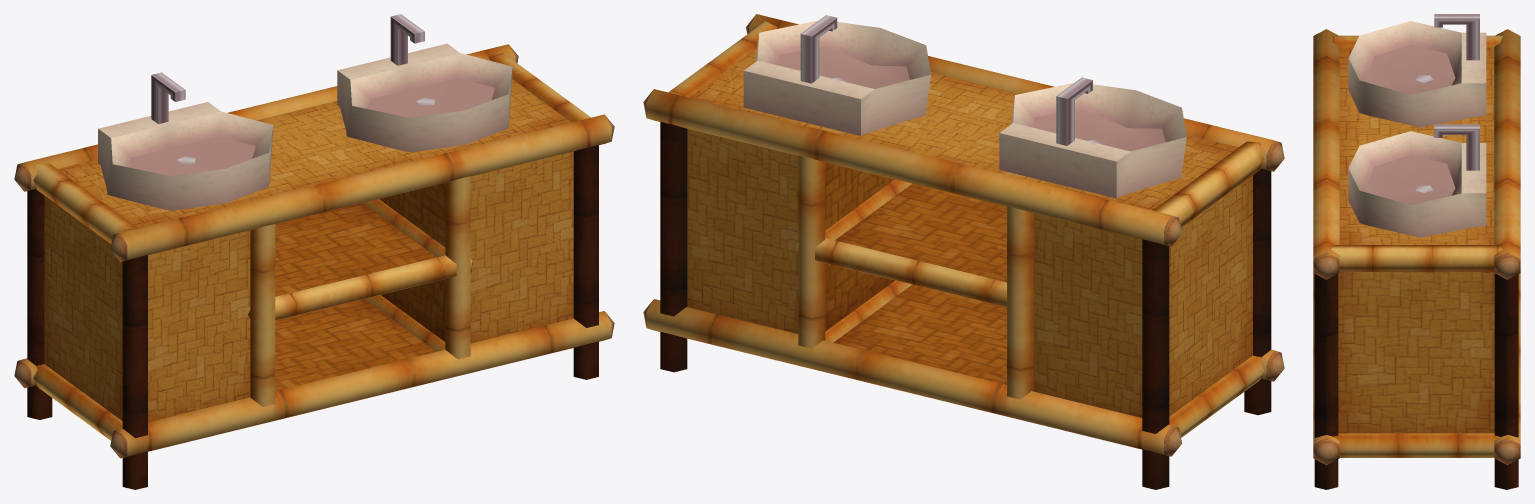
The model's file is Bamboo_Sink_01.FBX.
3 renders of one model, left to right at view 1: azimuth 30°, elevation 25°; view 2: azimuth 150°, elevation 25°; view 3: azimuth 270°, elevation 25°, orthographic. The views are drawn at different scales.
Parts seen in each view (by area): view 1: Bamboo_Sink_01; view 2: Bamboo_Sink_01; view 3: Bamboo_Sink_01.
Part boxes in pixels (x1=…): Bamboo_Sink_01: x1=14, y1=14, x2=614, y2=489; Bamboo_Sink_01: x1=643, y1=14, x2=1284, y2=489; Bamboo_Sink_01: x1=1313, y1=14, x2=1520, y2=489.
Size of the model in its own units: 1.61 by 0.6086 by 0.994.
